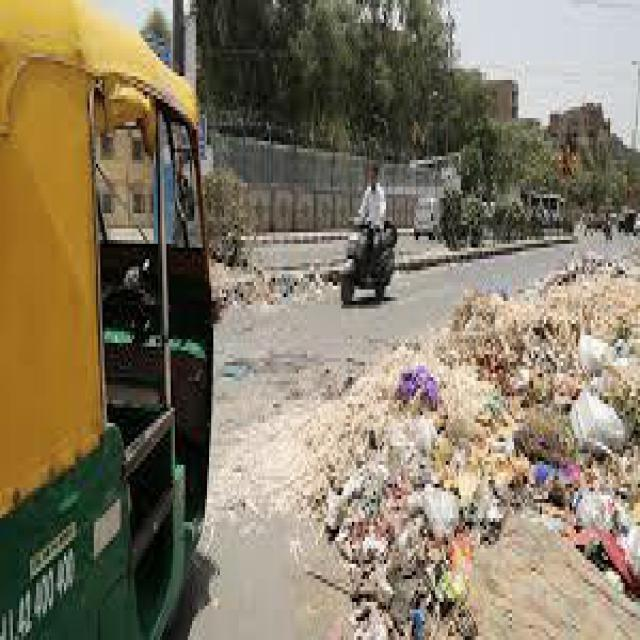garbage: (433, 308, 638, 564), (324, 404, 476, 636)
